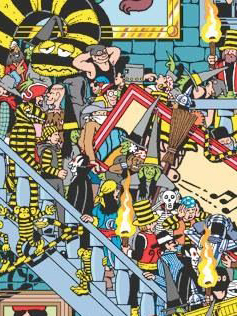waldo: (100, 82, 120, 107)
